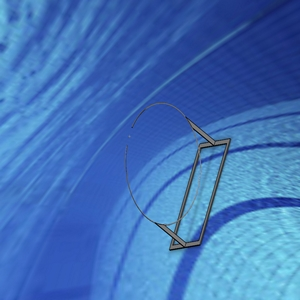circle: (123, 102, 233, 250)
